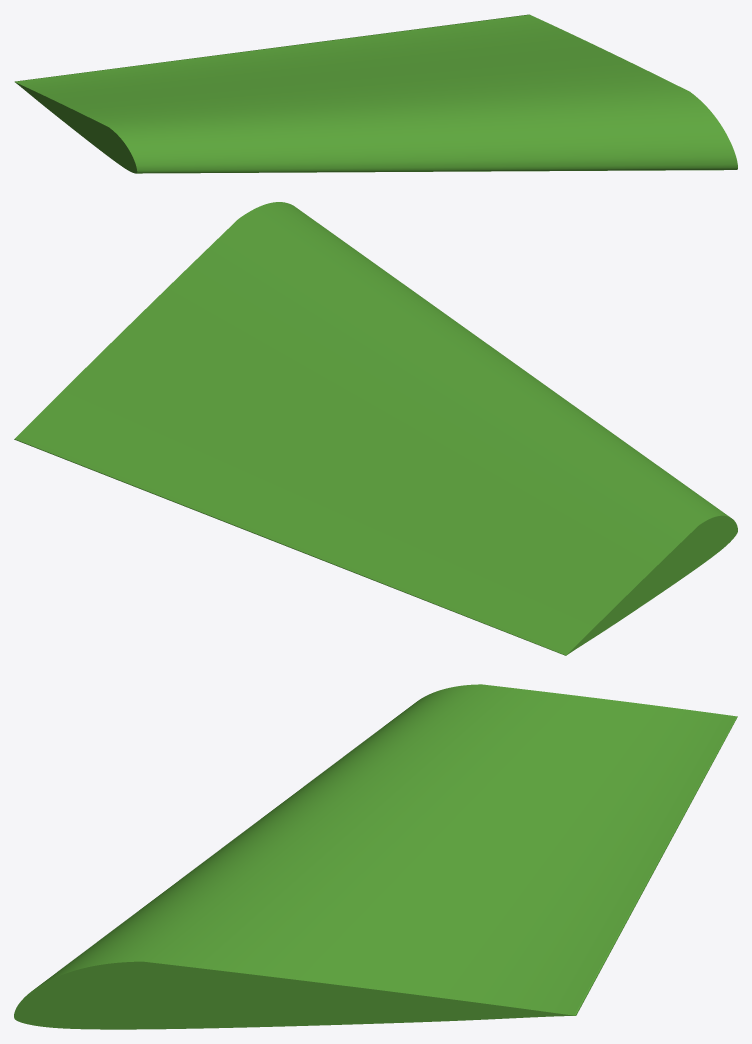
The model's file is wing_root_right.dae.
The picture shows the model from 3 angles, top to bottom: view 1: azimuth 30°, elevation 25°; view 2: azimuth 150°, elevation 25°; view 3: azimuth 270°, elevation 25°; orthographic projection. The views are drawn at different scales.
Visible parts, largest first — view 1: ID2; view 2: ID2; view 3: ID2.
Part boxes in pixels (<box>): ID2: <box>14,14,737,173</box>; ID2: <box>14,202,737,655</box>; ID2: <box>14,684,737,1029</box>.
Size of the model in its own units: 3.07 by 3.14 by 0.3251.
